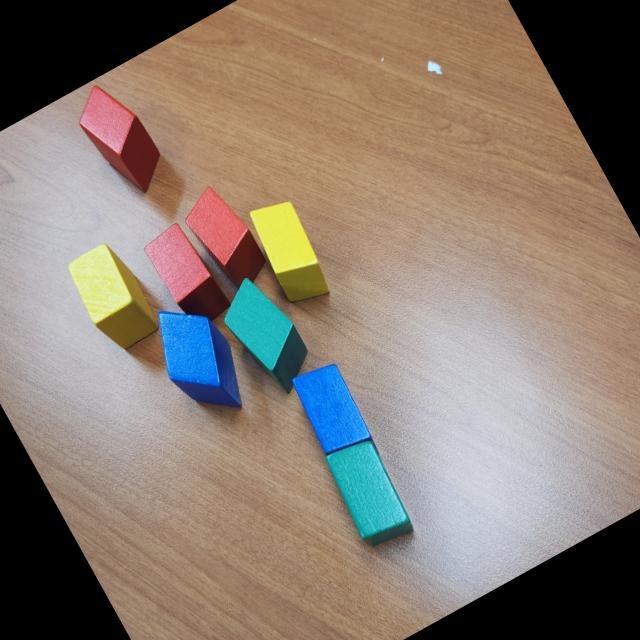blue: (138, 288, 260, 430), (286, 358, 376, 462)
green: (212, 268, 324, 404), (316, 431, 421, 555)
red: (67, 73, 175, 204), (174, 178, 274, 298), (140, 220, 232, 332)
yellow: (61, 236, 166, 358), (242, 192, 338, 312)
